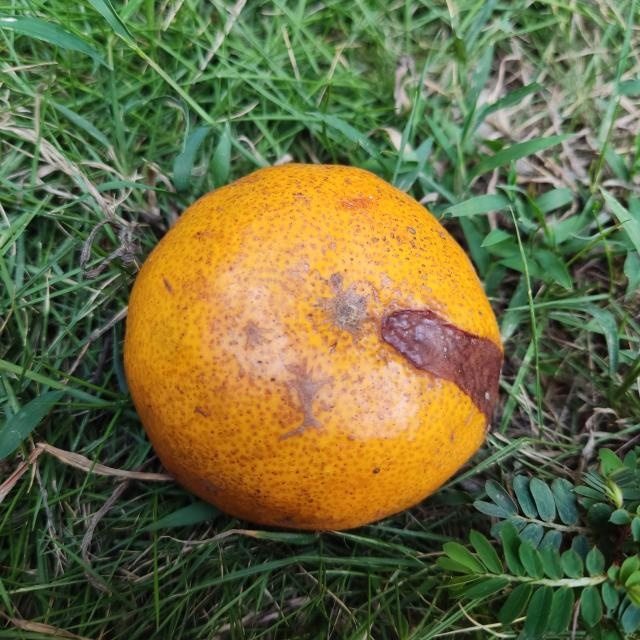agrume: (121, 159, 501, 535)
